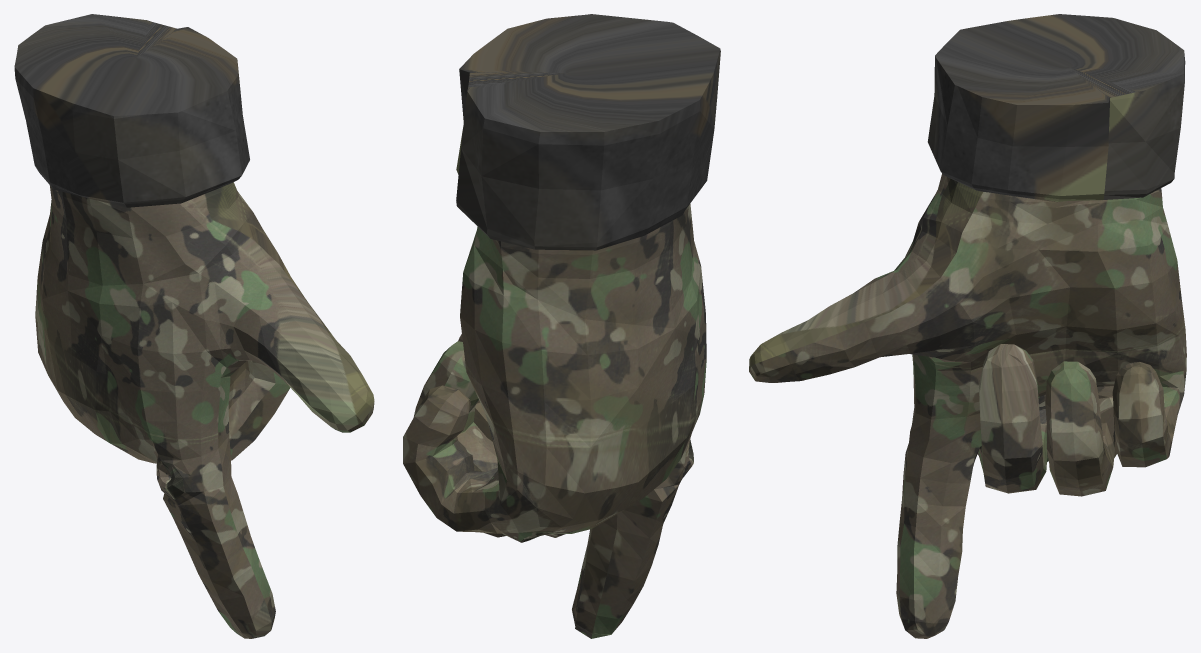
Rendered from glove_right_point.obj.
3 renders of one model, left to right at view 1: azimuth 30°, elevation 25°; view 2: azimuth 150°, elevation 25°; view 3: azimuth 270°, elevation 25°, orthographic. The views are drawn at different scales.
Size of the model in its own units: 0.1027 by 0.2301 by 0.1668.
Materials: 1 (1 with a texture image).
